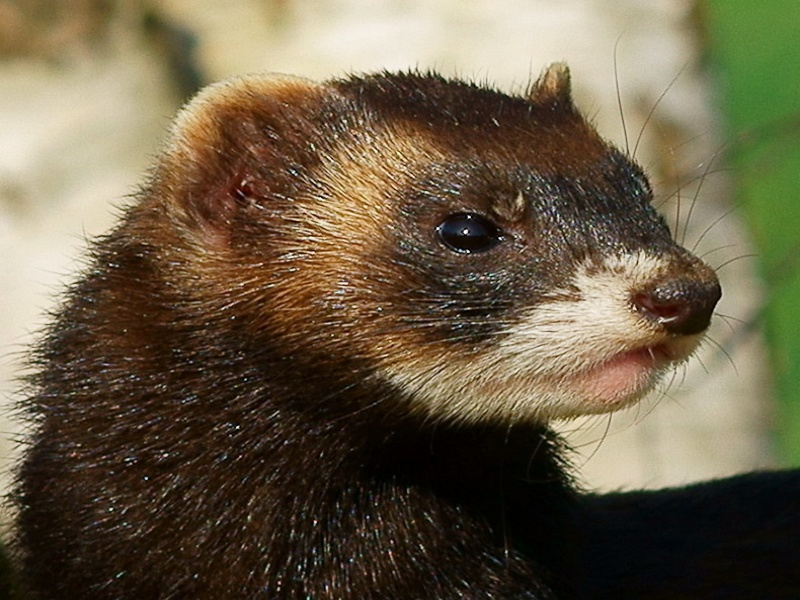minkish: (7, 58, 772, 600)
